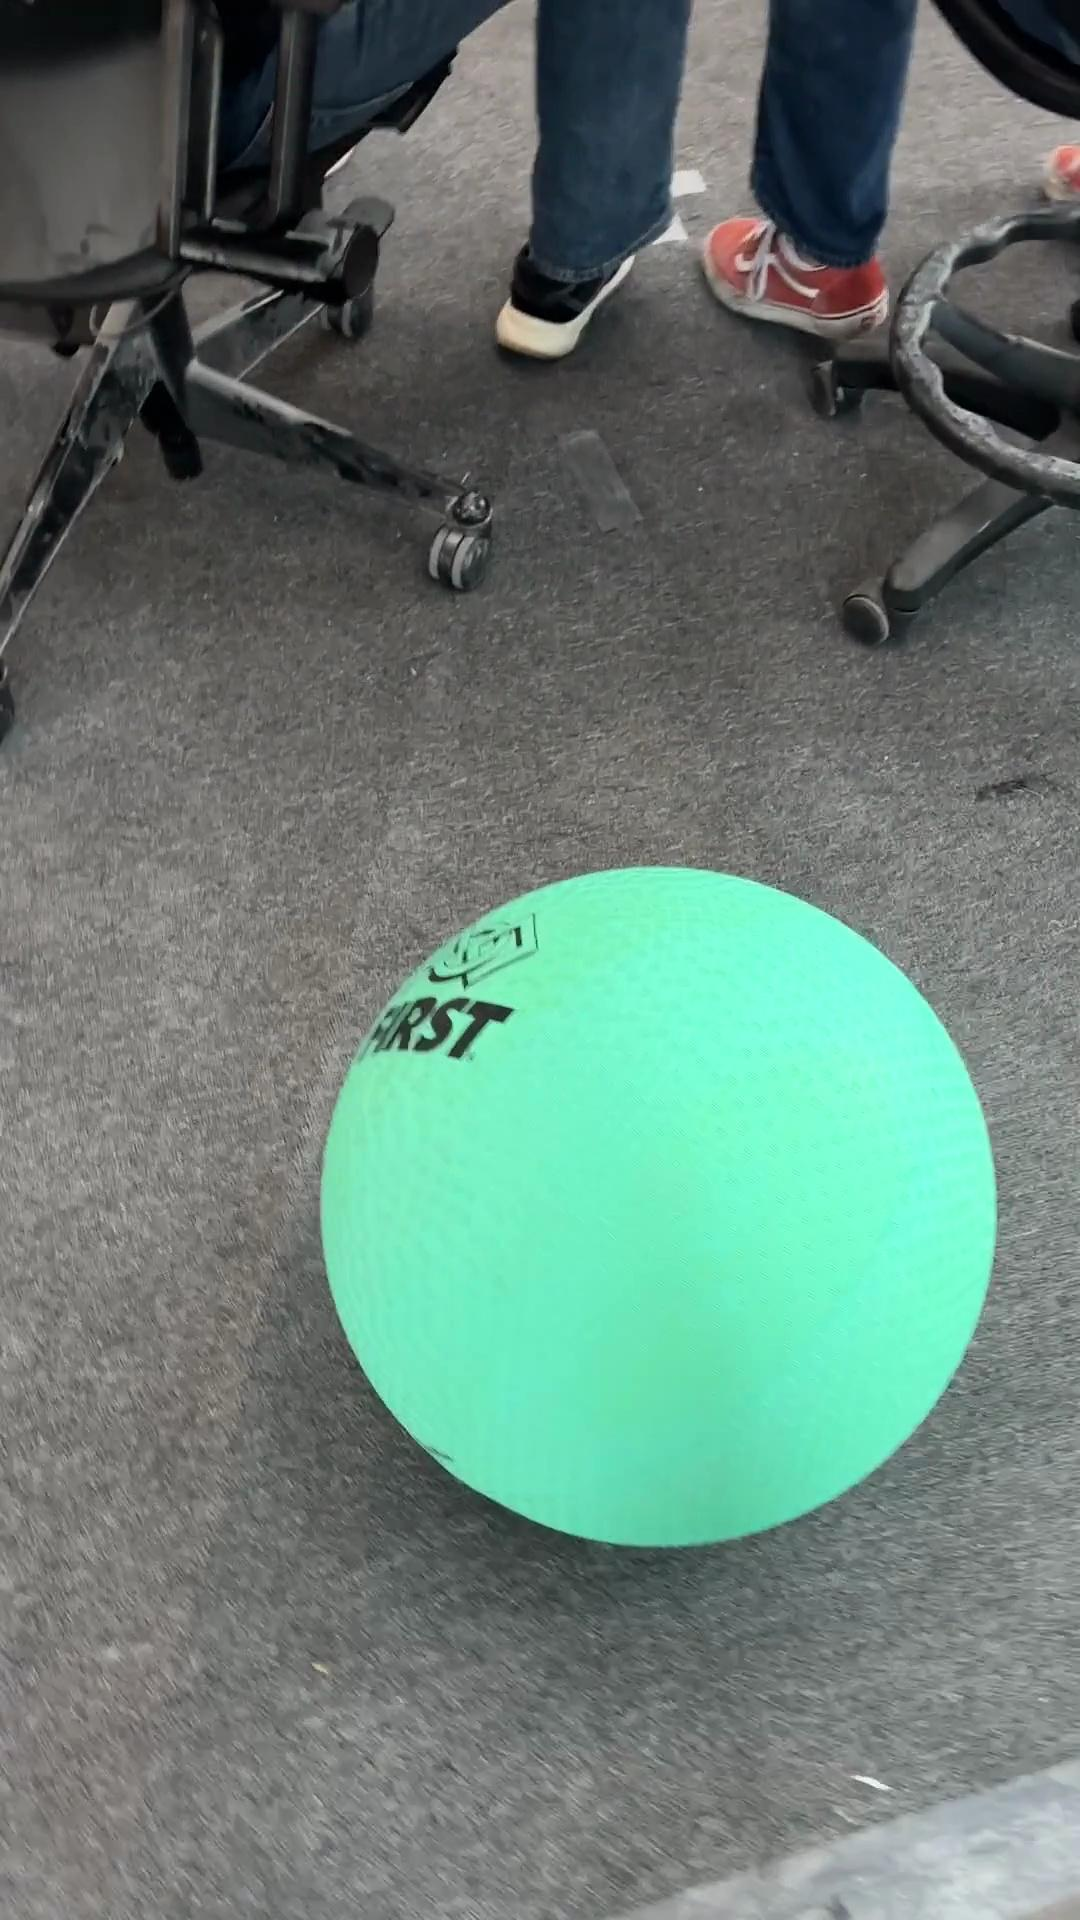ALGAE: (315, 861, 1000, 1549)
